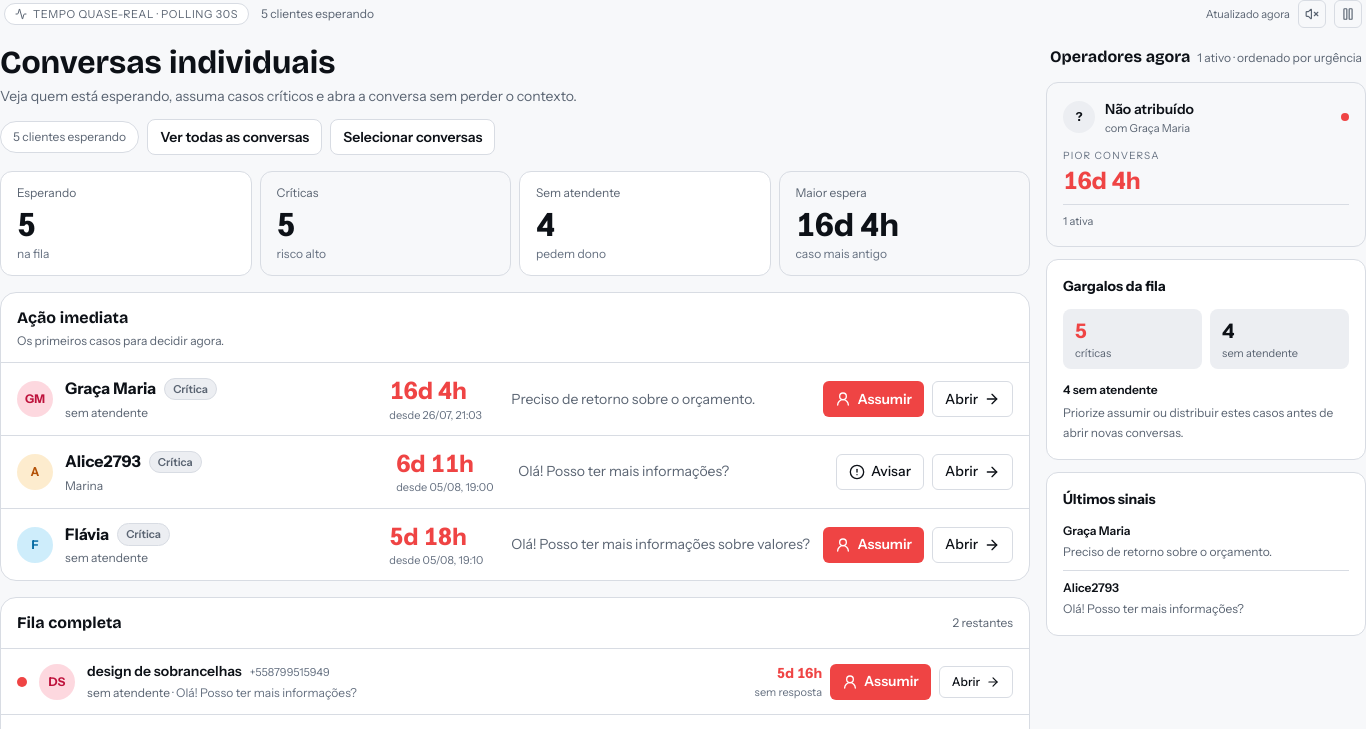
Test: OperacaoLivePanel › allows selecting multiple visible conversations to analyze with IA
The image size is (1366, 729).
Expected: the heading "Conversas individuais" is shown, 0,43 -> 335,82
What coordinates should you click on to do the following:
click the button "Selecionar conversas"
I would click on:
 (413, 137)
Its box is 330,119 -> 496,155.
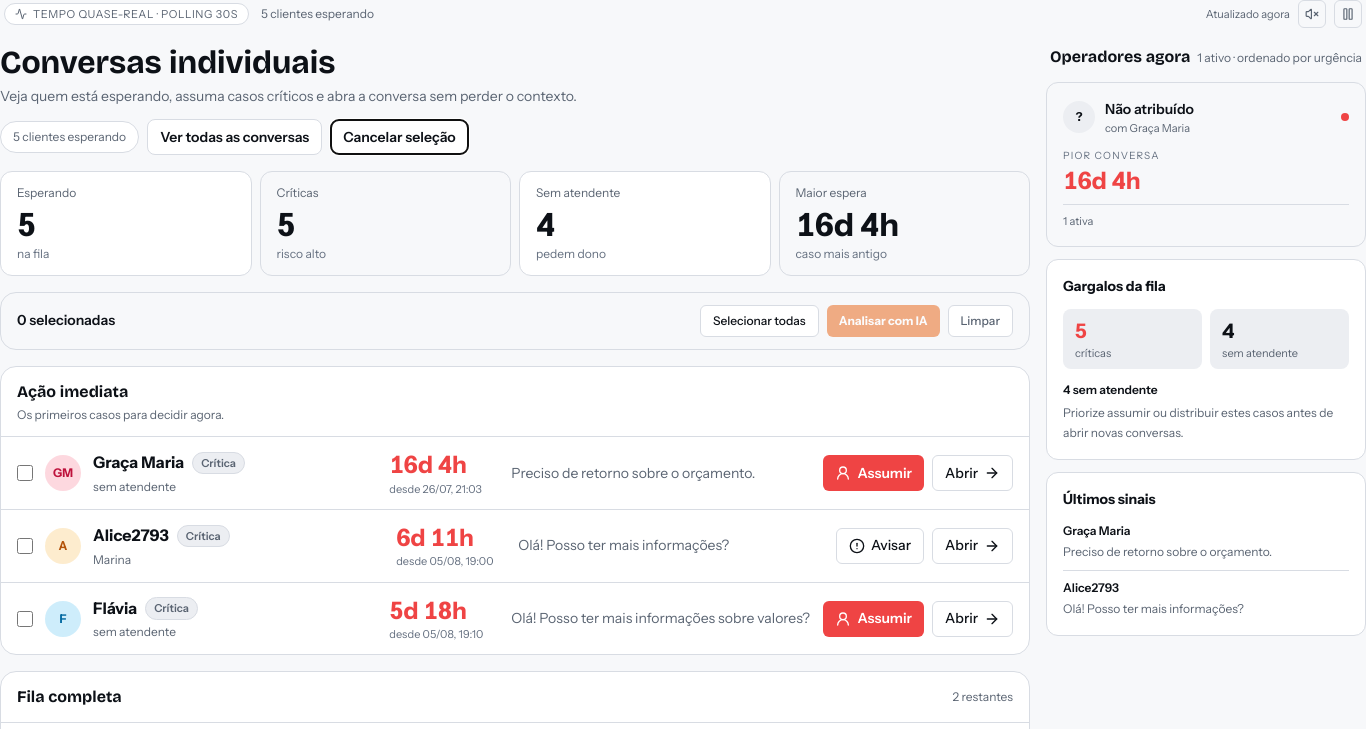
What coordinates should you click on to do the following:
click the checkbox named "Selecionar Graça Maria"
I would click on:
 (25, 473)
Its box is 17,465 -> 33,481.
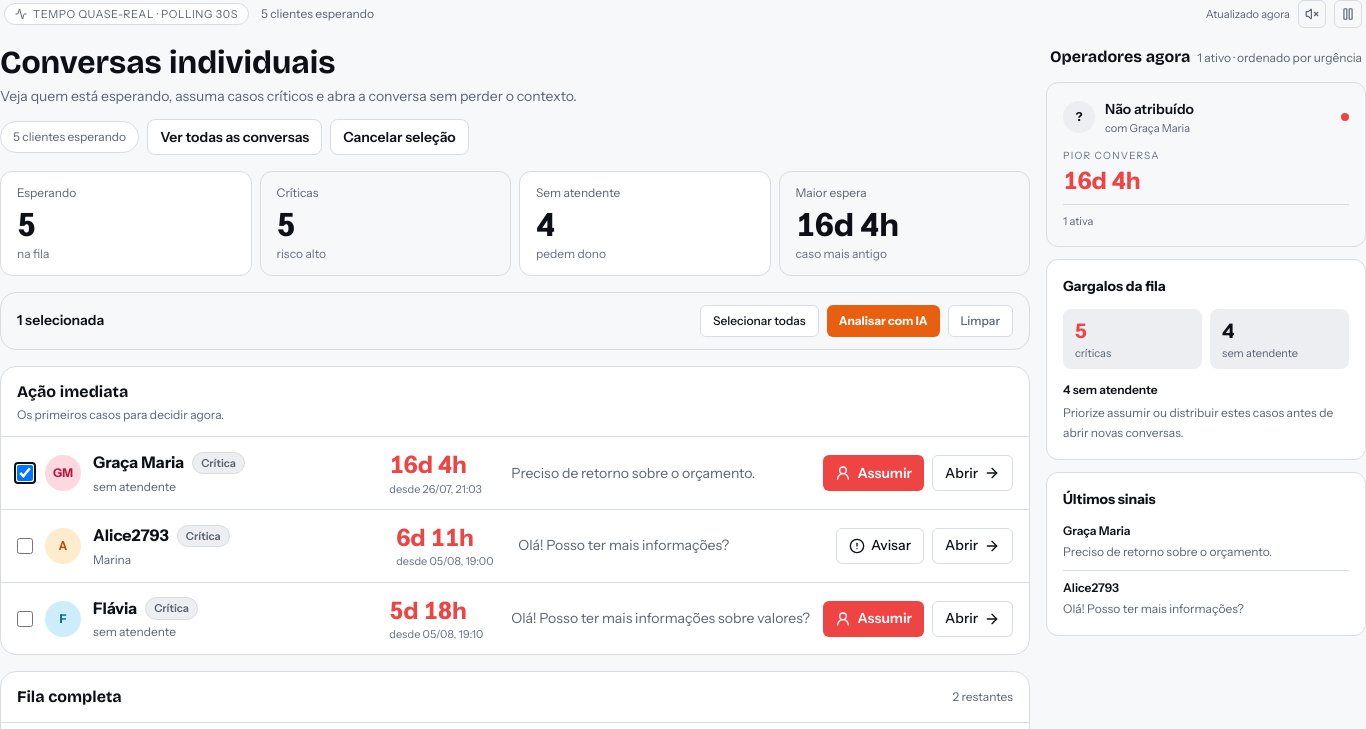
What coordinates should you click on to do the following:
click the checkbox named "Selecionar Alice2793"
I would click on:
 (25, 546)
Its box is 17,538 -> 33,554.
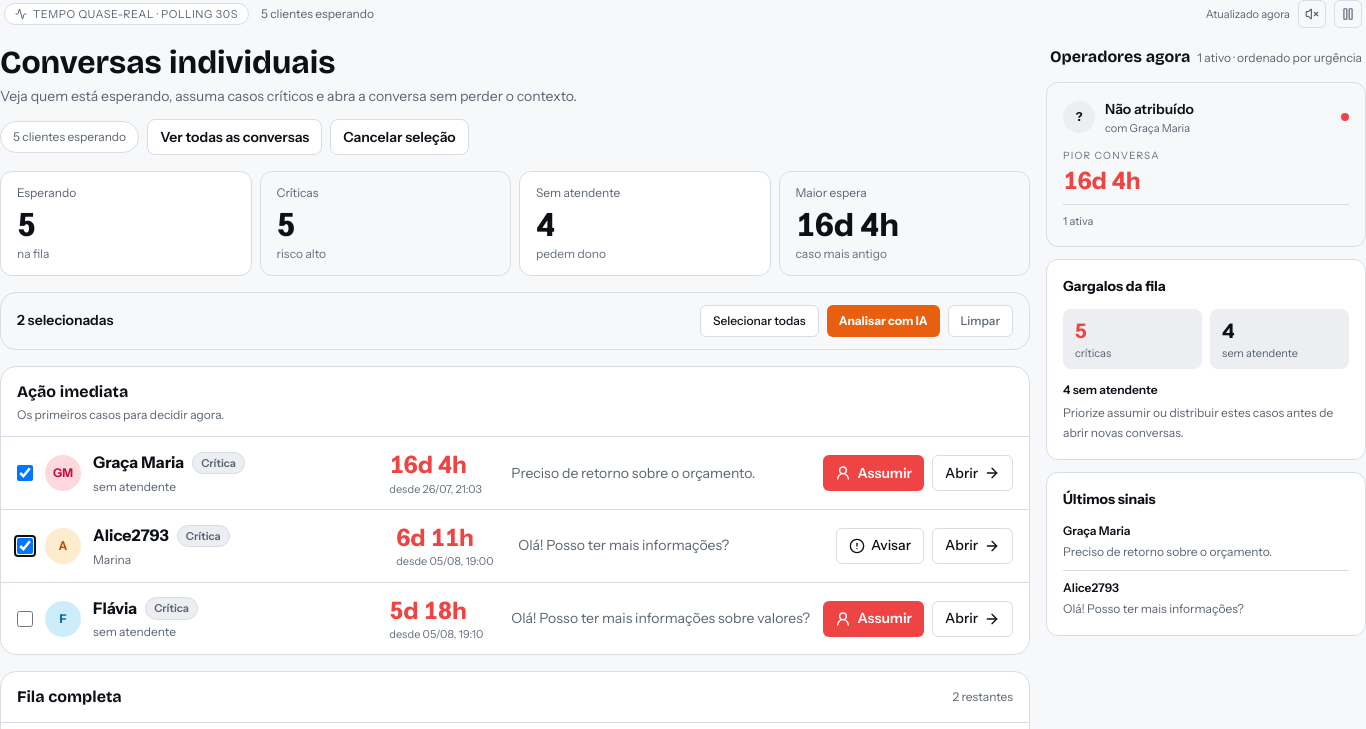
Result: the text "2 selecionadas" is shown at 17,310 -> 113,331
What coordinates should you click on to do the following:
click the button "Analisar com IA"
I would click on:
 (883, 321)
Its box is 827,305 -> 940,337.
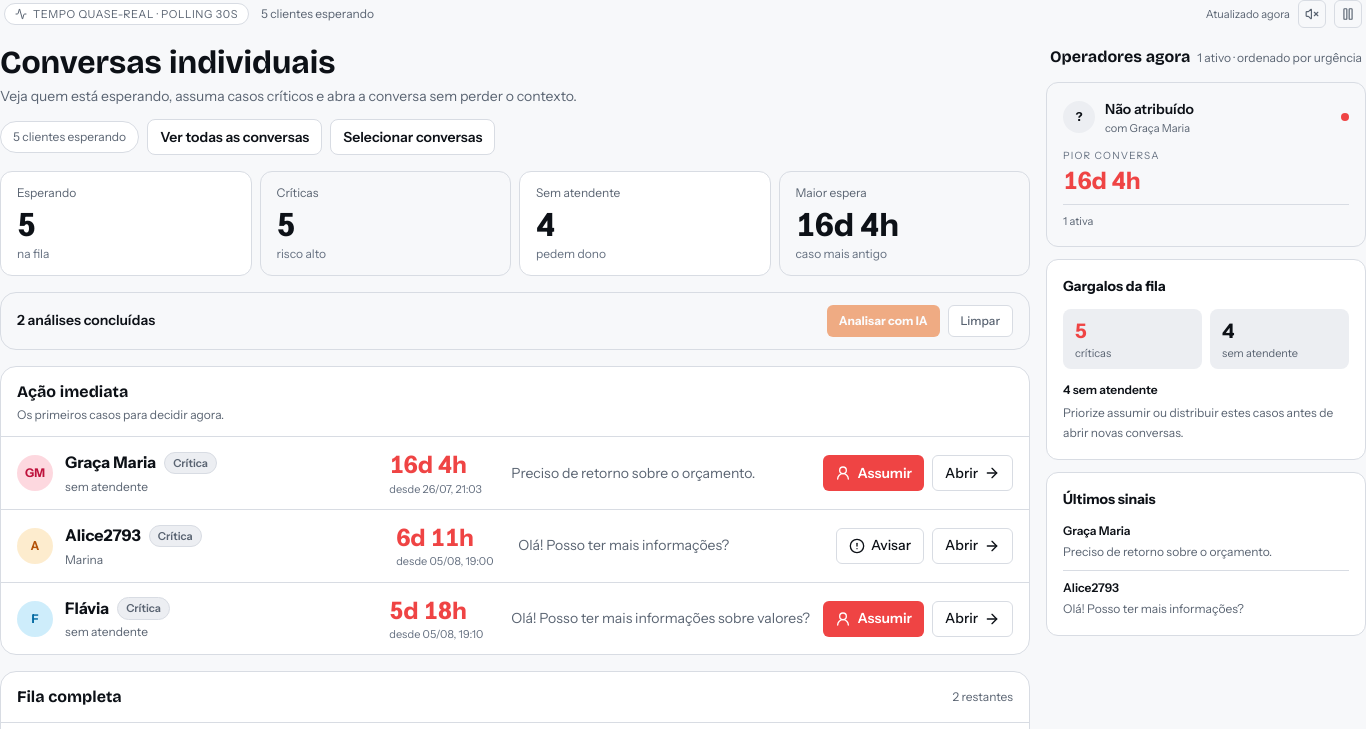
Result: the text "2 análises concluídas" is shown at 17,310 -> 155,331
